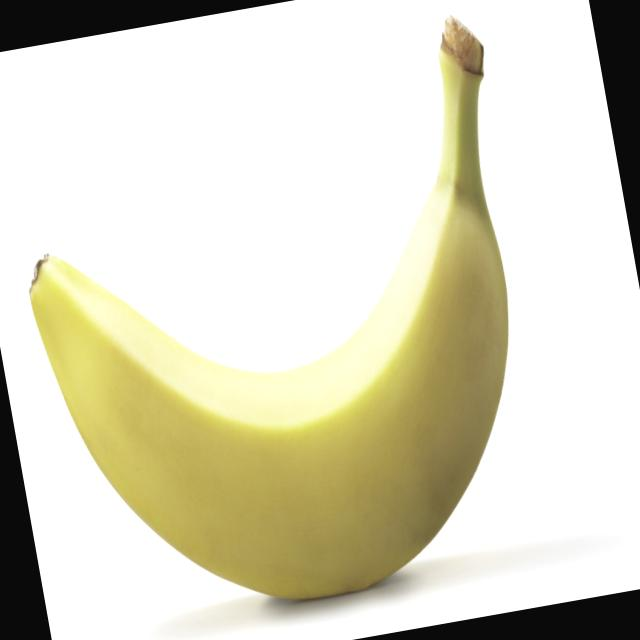Fresh_Banana: (0, 88, 592, 640)
